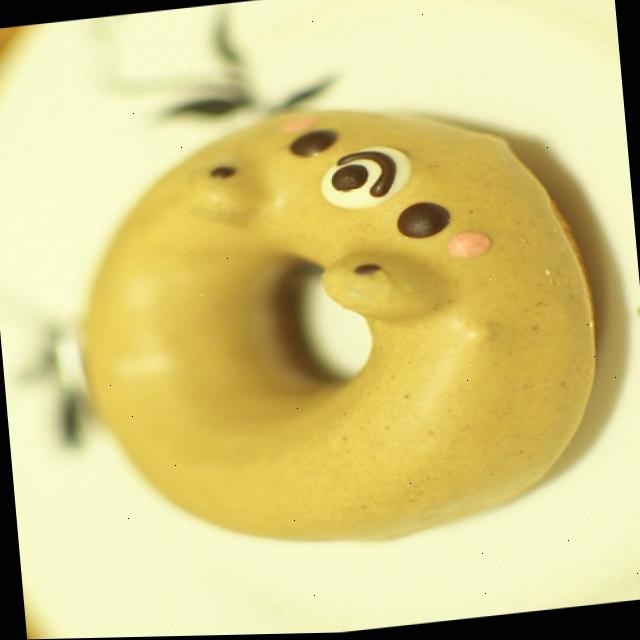炸货点心: (8, 13, 640, 638)
